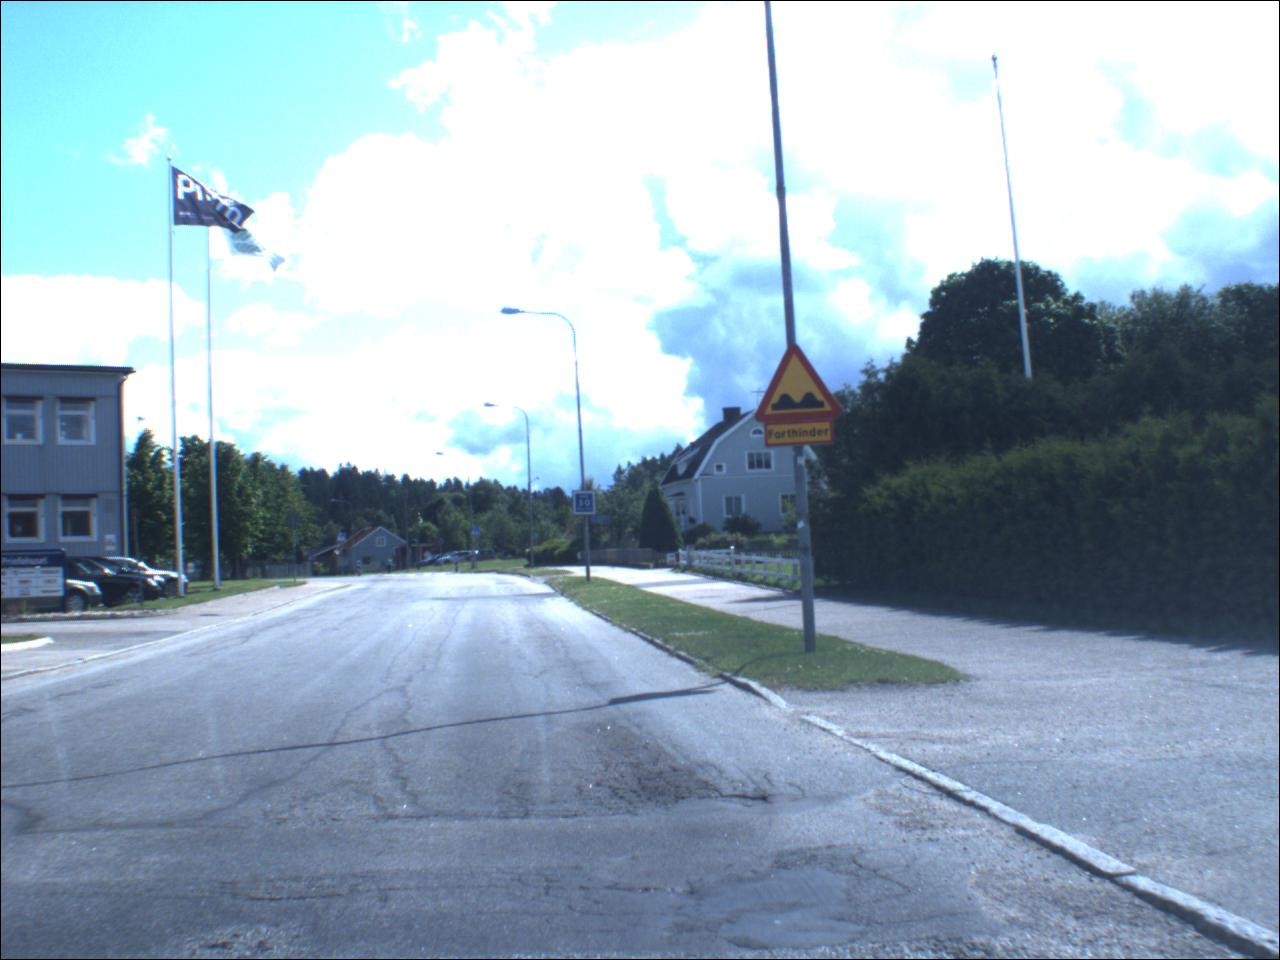WARNING_BAD_ROAD: (754, 344, 845, 427)
